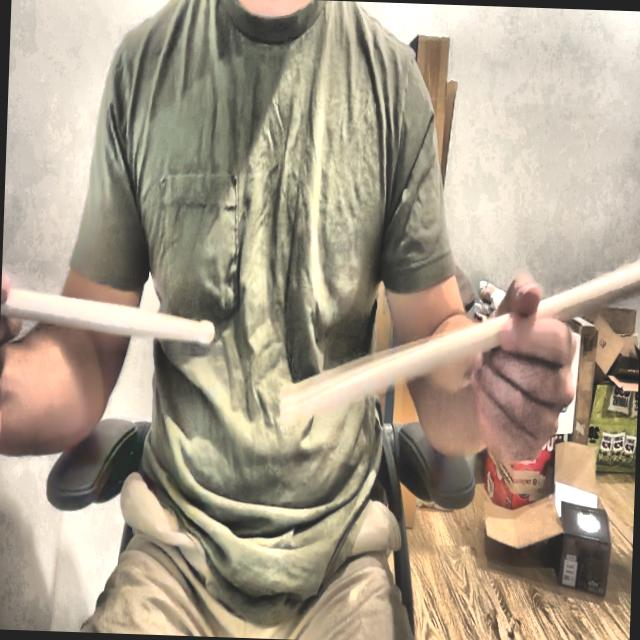Drumstick-Heads: (274, 372, 302, 433), (193, 308, 218, 354)
